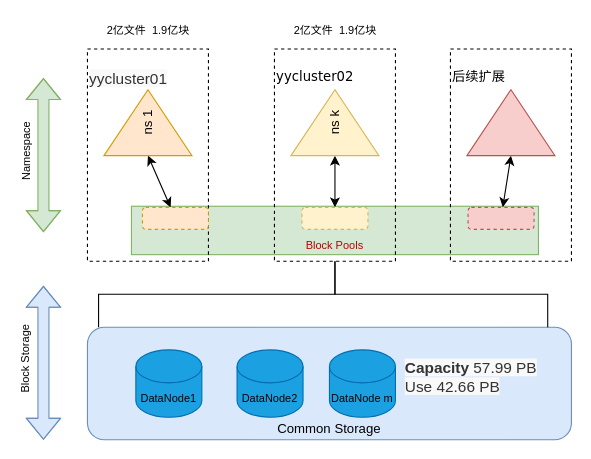
Image size: 591x459. Some labels were removed from this diagram. Each missing label, with the centre of its shape:
"ns n" goes at [510,122].
"pool 1" goes at [174,217].
"pool 2" goes at [334,217].
"pool 3" goes at [500,217].
